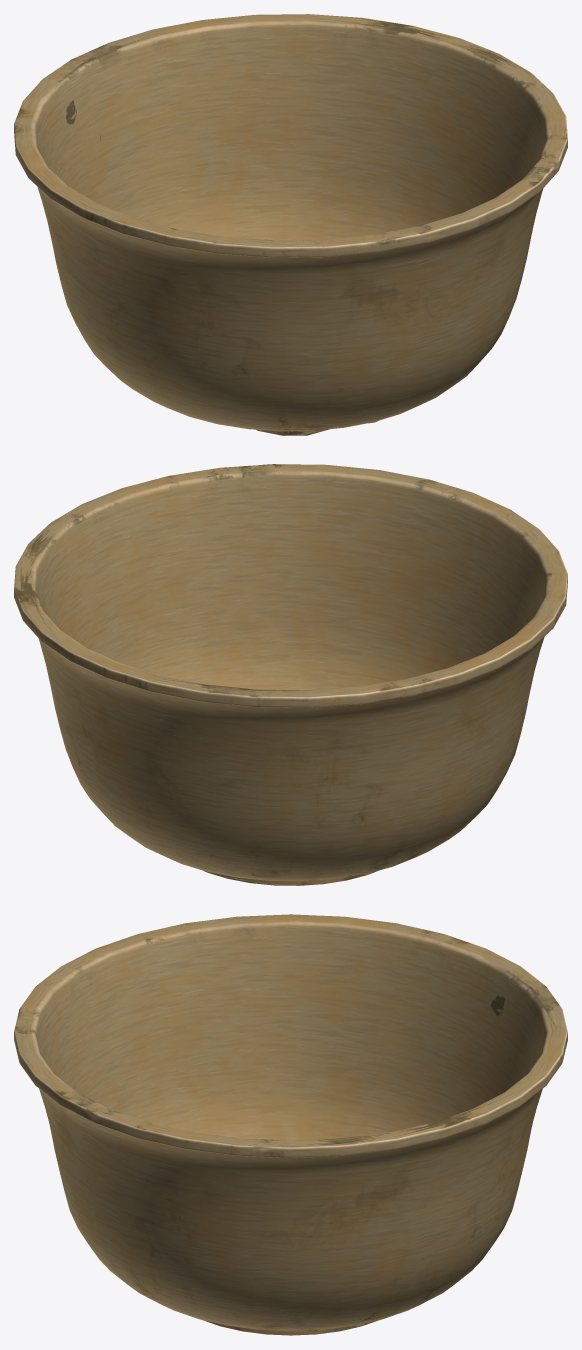
Rendered from SM_Cup28.fbx.
3 renders of one model, top to bottom at view 1: azimuth 30°, elevation 25°; view 2: azimuth 150°, elevation 25°; view 3: azimuth 270°, elevation 25°, orthographic.
Visible parts, largest first — view 1: SM_Cup28; view 2: SM_Cup28; view 3: SM_Cup28.
Part boxes in pixels (box(x1,y1,x2,y2)): SM_Cup28: box(14, 14, 567, 435); SM_Cup28: box(14, 464, 567, 885); SM_Cup28: box(14, 914, 567, 1335).
Bounding box in the file's own units: 4.99 × 2.5 × 4.99.
1 material, 1 textured.
